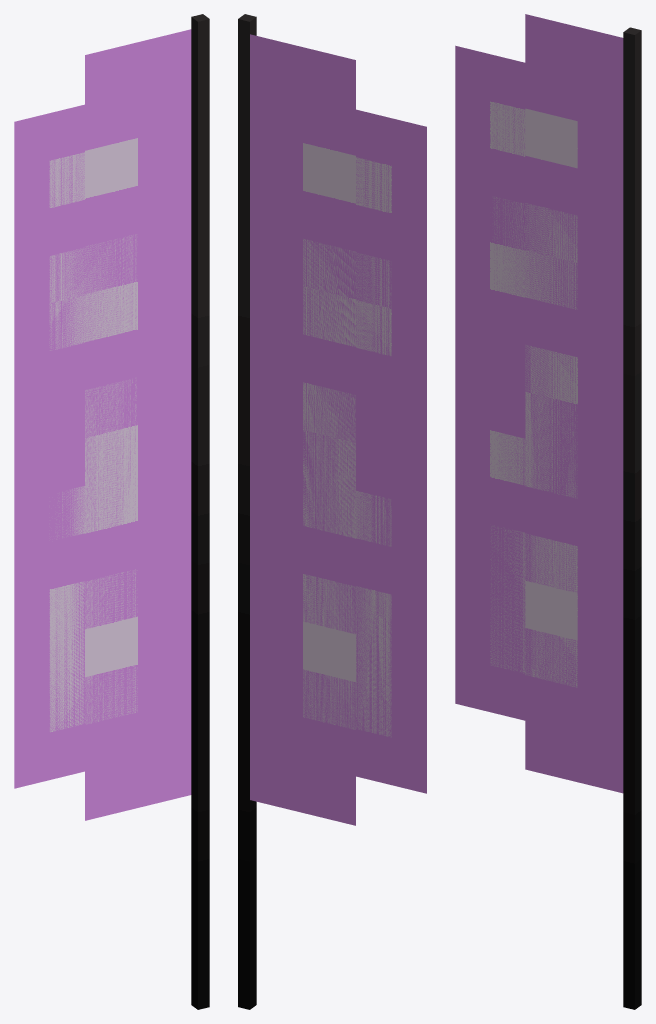
Rendered from Banner Stick Thing.fbx.
3 renders of one model, left to right at view 1: azimuth 30°, elevation 25°; view 2: azimuth 150°, elevation 25°; view 3: azimuth 330°, elevation 25°, orthographic.
Visible parts, largest first — view 1: cube_1, cube_2, cube; view 2: cube_1, cube_2, cube; view 3: cube_1, cube_2, cube.
Part boxes in pixels (bbox=[...]): cube_1: bbox=[85, 29, 191, 820]; cube_2: bbox=[14, 104, 84, 788]; cube: bbox=[191, 14, 209, 1009]; cube_1: bbox=[250, 34, 355, 825]; cube_2: bbox=[356, 109, 426, 793]; cube: bbox=[238, 14, 256, 1009]; cube_1: bbox=[525, 14, 623, 793]; cube_2: bbox=[455, 45, 525, 720]; cube: bbox=[623, 27, 641, 1009].
Bounding box in the file's own units: 25 × 125 × 1.56.
1 material, 1 textured.
